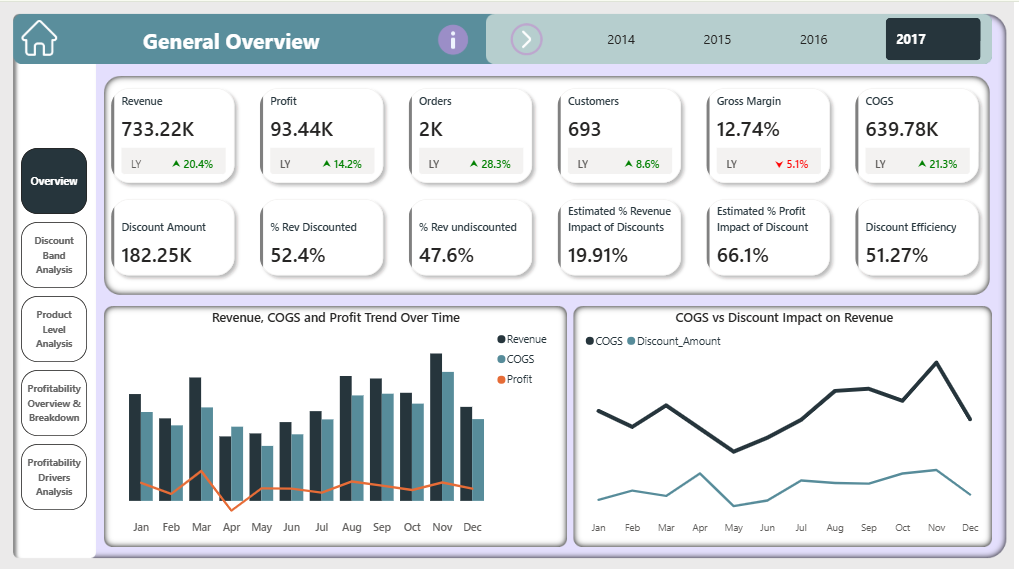

This screenshot's page, from the dashboard's own definition file:
{"tool":"powerbi","page":{"name":"Overview","canvas":[1280,720],"ordinal":0},"visuals":[{"type":"shape","box":[543.2,19.5,63,52.5],"z":0},{"type":"cardVisual","fields":{"Data":["My Measures.Revenue","My Measures.Total_Profit","My Measures.Total_Orders","My Measures.Total_Customer","My Measures.profit_margin","My Measures.COGS"]},"box":[115.2,79.2,1152,177.1],"z":1000},{"type":"cardVisual","fields":{"Data":["My Measures.Total_Discount_Amount","My Measures.% Revenue_Discounted","My Measures.% Revenue_Undiscounted","My Measures.% revenue_lost_to_discount","My Measures.% profit_lost_to_discount","My Measures.Discount_Efficiency"]},"box":[115.2,218.9,1152,154.1],"z":2000},{"type":"advancedSlicerVisual","fields":{"Values":["Calendar Table.Year"]},"box":[750.2,15.4,495.6,63.2],"z":3000},{"type":"lineChart","title":"COGS vs Discount Impact on Revenue","fields":{"Category":["Calendar Table.Month Name"],"Y":["My Measures.COGS","My Measures.Discount_Amount"]},"box":[734.8,384.5,511,293.9],"z":4000},{"type":"lineClusteredColumnComboChart","title":"Revenue, COGS and Profit Trend Over Time","fields":{"Y":["My Measures.Revenue","My Measures.COGS"],"Y2":["My Measures.Total_Profit"],"Category":["Calendar Table.Month Name"]},"box":[147,384.3,559.8,294.1],"z":5000},{"type":"image","box":[24.5,23,60.5,44.6],"z":6000},{"type":"image","box":[625.5,23.9,82,46.1],"z":7000},{"type":"textbox","box":[179.4,22.2,348.6,53],"z":8000},{"type":"pageNavigator","box":[31.7,182.9,83.5,459.4],"z":9000},{"type":"image","box":[550.1,25.9,47.5,41.8],"z":11000}]}

Visuals, with their boxes in screenshot pixels (x1, y1, x2, y2), scaled from the page's 1280x720 canvas onto the 1019x569 screenshot:
shape: locate(432, 15, 483, 57)
cardVisual - My Measures.Revenue x My Measures.Total_Profit: locate(92, 63, 1009, 203)
cardVisual - My Measures.Total_Discount_Amount x My Measures.% Revenue_Discounted: locate(92, 173, 1009, 295)
advancedSlicerVisual - Calendar Table.Year: locate(597, 12, 992, 62)
"COGS vs Discount Impact on Revenue" lineChart: locate(585, 304, 992, 536)
"Revenue, COGS and Profit Trend Over Time" lineClusteredColumnComboChart: locate(117, 304, 563, 536)
image: locate(20, 18, 68, 53)
image: locate(498, 19, 563, 55)
textbox: locate(143, 18, 420, 59)
pageNavigator: locate(25, 145, 92, 508)
image: locate(438, 20, 476, 54)
